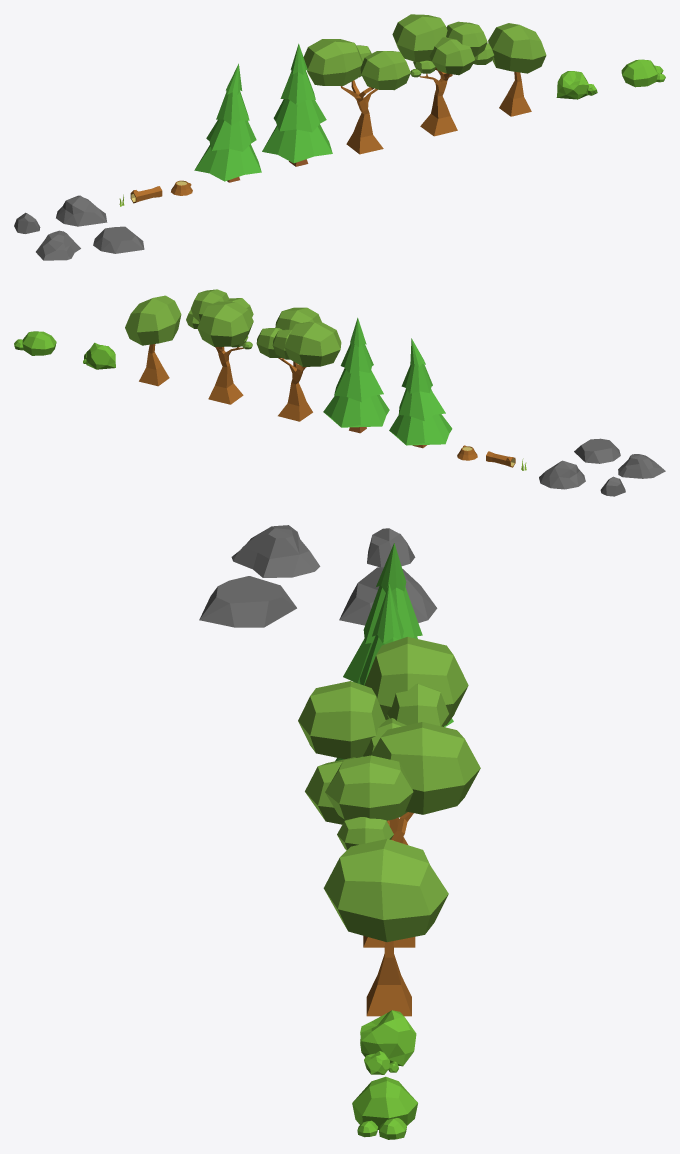
Rendered from forest assets.fbx.
3 renders of one model, top to bottom at view 1: azimuth 30°, elevation 25°; view 2: azimuth 150°, elevation 25°; view 3: azimuth 270°, elevation 25°, orthographic. The views are drawn at different scales.
Visible parts, largest first — view 1: tree reg, tree reg.001, tree straight, tree curve, hehe tree, rock 2, rock 2.002, rock, bush, bush 2, rock 2.001; view 2: tree reg.001, tree reg, tree straight, tree curve, hehe tree, rock 2, rock 2.002, rock, bush, bush 2, rock 2.001; view 3: tree reg, tree reg.001, hehe tree, rock 2.002, rock, bush, tree curve, bush 2, rock 2, tree straight, rock 2.001.
Boxes of the visible parts, bbox=[...] form: tree reg: bbox=[392, 14, 494, 136]; tree reg.001: bbox=[303, 39, 410, 154]; tree straight: bbox=[262, 43, 332, 166]; tree curve: bbox=[194, 63, 261, 182]; hehe tree: bbox=[488, 23, 546, 116]; rock 2: bbox=[56, 195, 107, 226]; rock 2.002: bbox=[93, 226, 144, 253]; rock: bbox=[36, 230, 80, 260]; bush: bbox=[621, 59, 665, 87]; bush 2: bbox=[556, 71, 597, 99]; rock 2.001: bbox=[14, 212, 40, 233]; tree reg.001: bbox=[256, 307, 341, 421]; tree reg: bbox=[186, 289, 253, 404]; tree straight: bbox=[323, 317, 389, 433]; tree curve: bbox=[389, 338, 452, 448]; hehe tree: bbox=[125, 295, 181, 386]; rock 2: bbox=[539, 460, 585, 489]; rock 2.002: bbox=[574, 438, 620, 463]; rock: bbox=[618, 454, 665, 478]; bush: bbox=[14, 331, 56, 355]; bush 2: bbox=[83, 342, 115, 369]; rock 2.001: bbox=[600, 476, 625, 496]; tree reg: bbox=[305, 722, 480, 947]; tree reg.001: bbox=[298, 636, 468, 844]; hehe tree: bbox=[323, 838, 448, 1016]; rock 2.002: bbox=[199, 576, 296, 627]; rock: bbox=[231, 525, 320, 577]; bush: bbox=[352, 1076, 417, 1139]; tree curve: bbox=[343, 543, 453, 726]; bush 2: bbox=[360, 1010, 416, 1074]; rock 2: bbox=[339, 567, 437, 625]; tree straight: bbox=[335, 584, 403, 761]; rock 2.001: bbox=[367, 528, 415, 567].
Size of the model in its own units: 3818 by 668 by 756.
